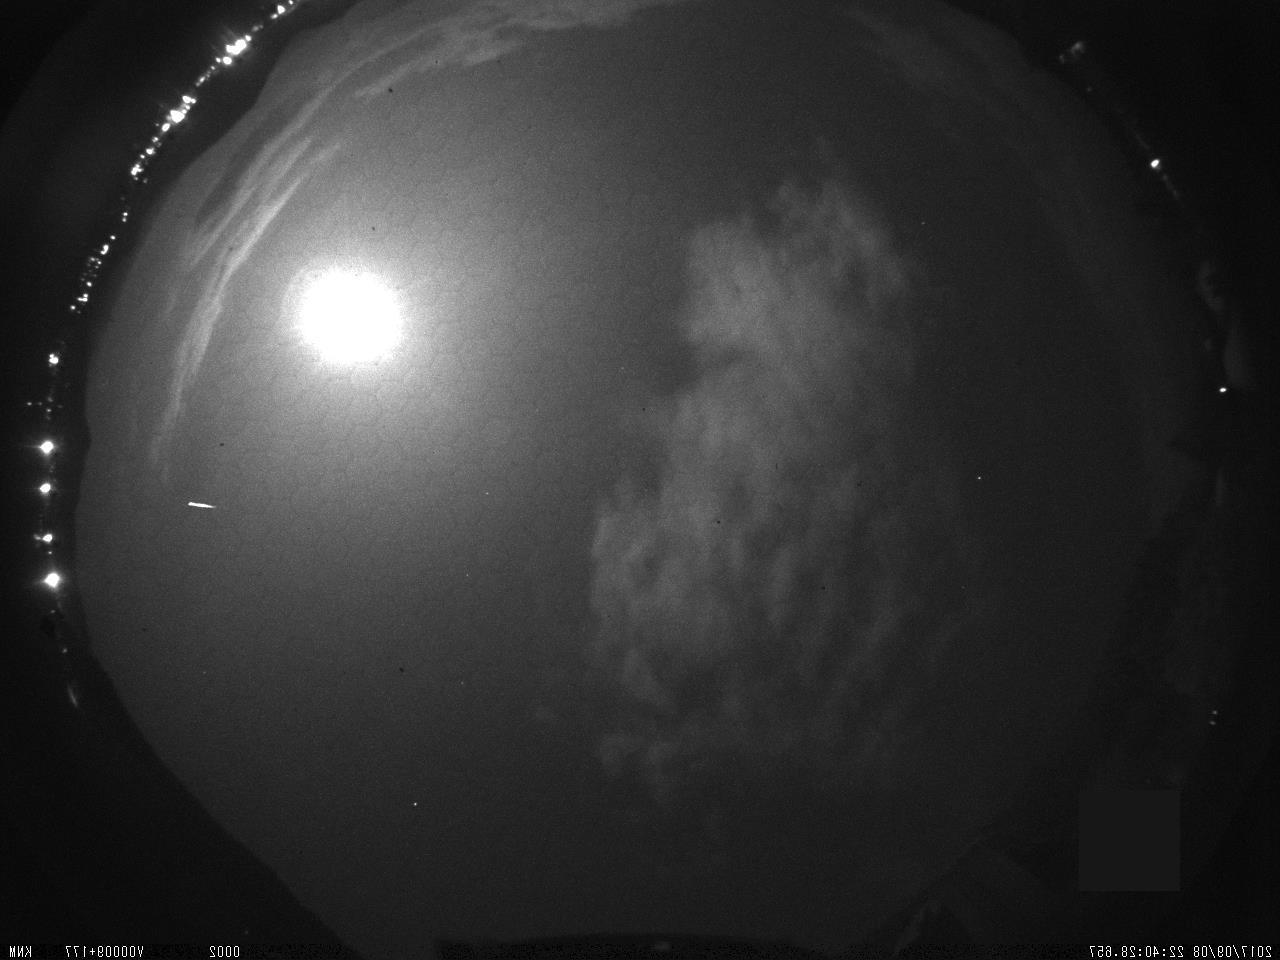meteor: (180, 488, 237, 535)
